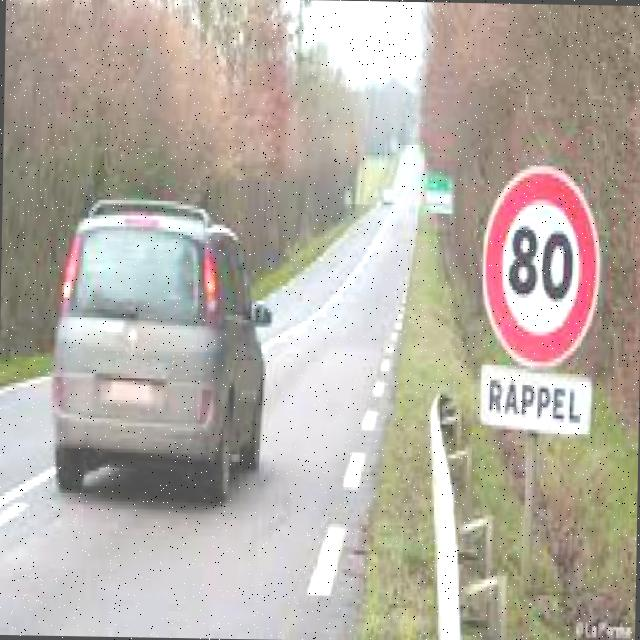Ograniczenie predkosci do 80: (480, 162, 604, 374)
